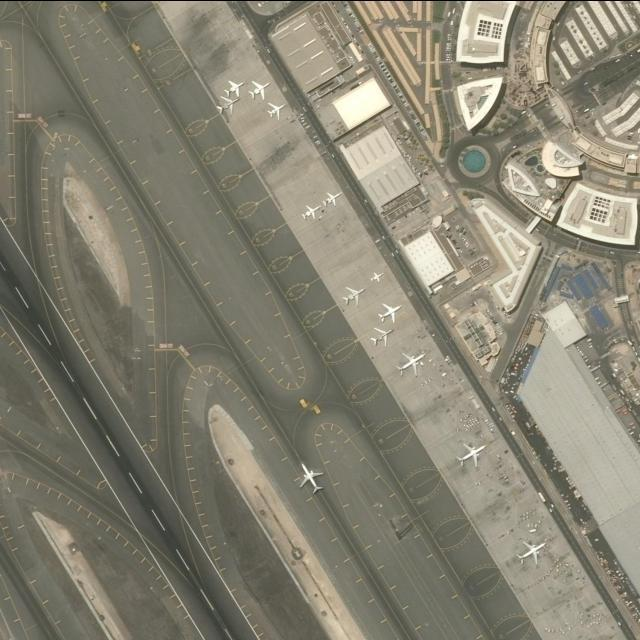Aircraft: (514, 537, 548, 567), (297, 464, 327, 496), (397, 353, 431, 377), (378, 296, 405, 326), (460, 439, 488, 467), (369, 327, 397, 351), (342, 285, 368, 309), (247, 76, 271, 102), (300, 202, 322, 223), (216, 95, 240, 114), (266, 99, 286, 121), (227, 75, 243, 99), (323, 193, 341, 209)
